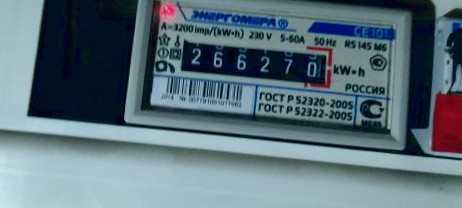0: (304, 58, 317, 79)
2: (187, 44, 203, 66), (257, 53, 271, 74)
6: (210, 48, 224, 70), (234, 51, 248, 71)
7: (280, 55, 294, 75)
screen: (166, 25, 343, 98)
